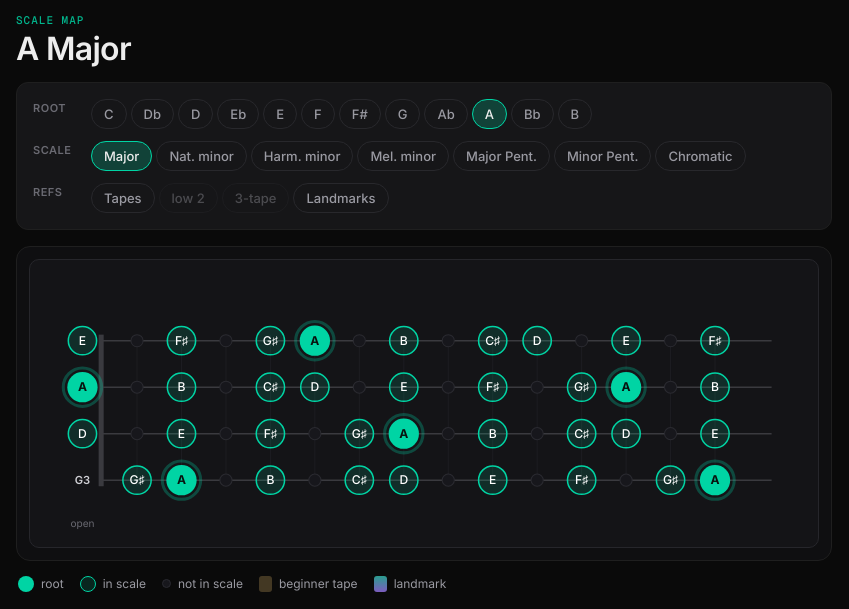
Test: §9.1 / §13 — pc-1 root pill + H1 relabel by scale family (S15) › Db + Natural Minor: pc-1 pill flips to C♯ and the H1 reads C♯ Natural Minor
What coordinates should you click on to do the following:
click the radio button labelled "Db"
I would click on:
 (152, 114)
Its box is [130, 99, 174, 129].
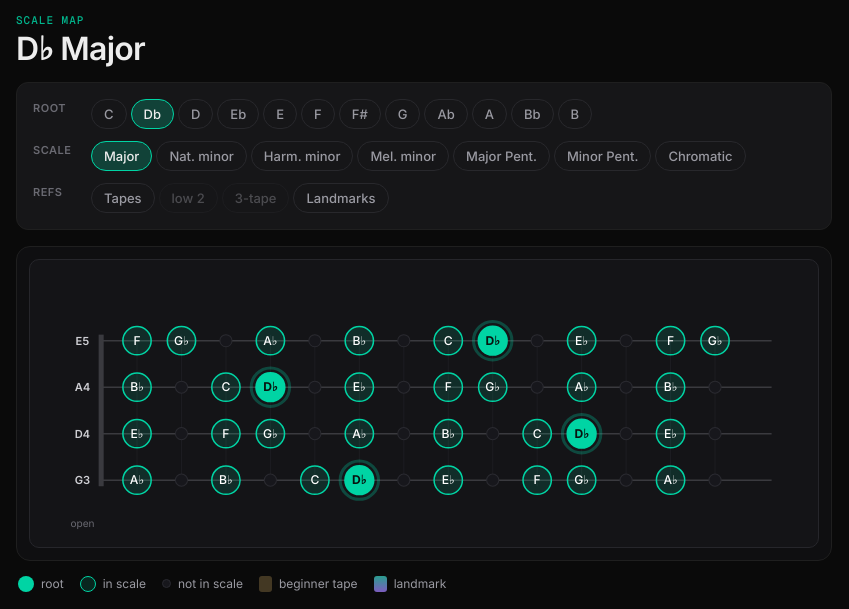
What coordinates should you click on to do the following:
click the radio button labelled "Nat. minor"
I would click on:
 (202, 156)
Its box is [156, 141, 247, 171].
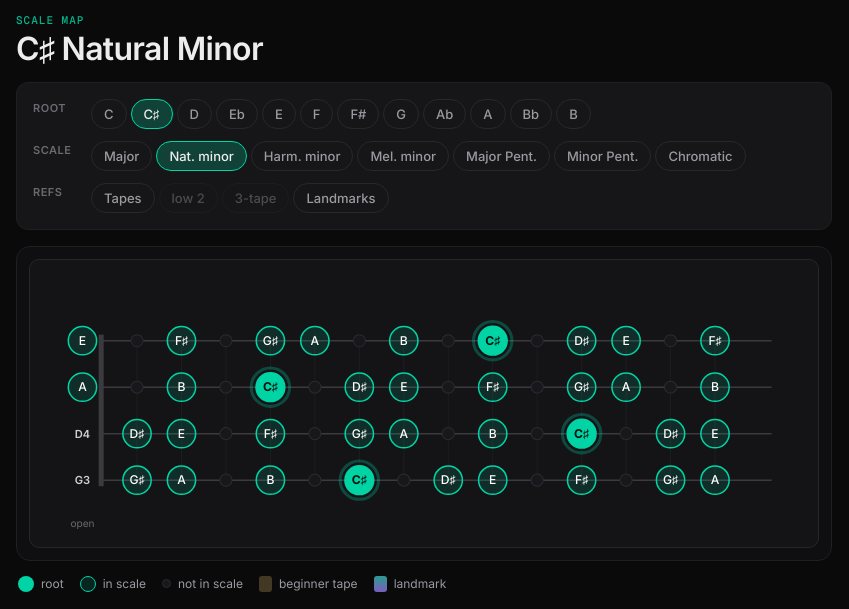
Expected: the radio button labelled "C♯" is shown, [130, 99, 172, 129]
Expected: the radio button labelled "Db" is gone
Expected: the heading "C♯ Natural Minor" is shown, [16, 31, 263, 66]
